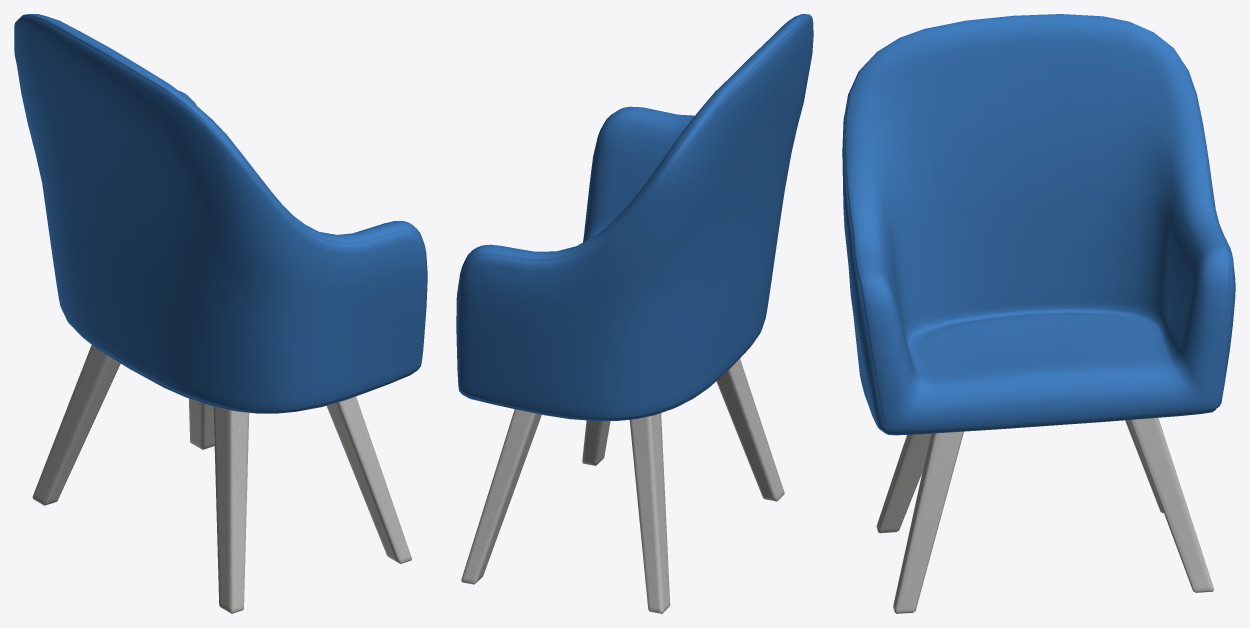
File: example_2.glb
3 views of the same model, side by side, from view 1: azimuth 30°, elevation 25°; view 2: azimuth 150°, elevation 25°; view 3: azimuth 270°, elevation 25° (orthographic). The views are drawn at different scales.
Visible parts, largest first — view 1: seat_mesh_n3d, leg_002_mesh_n3d, leg_001_mesh_n3d, leg_004_mesh_n3d, leg_003_mesh_n3d; view 2: seat_mesh_n3d, leg_001_mesh_n3d, leg_003_mesh_n3d, leg_002_mesh_n3d, leg_004_mesh_n3d; view 3: seat_mesh_n3d, leg_004_mesh_n3d, leg_003_mesh_n3d, leg_002_mesh_n3d.
Boxes of the visible parts, left/top/right/bottom form: seat_mesh_n3d: left=14, top=14, right=427, bottom=413; leg_002_mesh_n3d: left=213, top=406, right=249, bottom=613; leg_001_mesh_n3d: left=32, top=345, right=120, bottom=505; leg_004_mesh_n3d: left=326, top=396, right=411, bottom=563; leg_003_mesh_n3d: left=189, top=398, right=214, bottom=449; seat_mesh_n3d: left=456, top=14, right=813, bottom=420; leg_001_mesh_n3d: left=629, top=413, right=670, bottom=613; leg_003_mesh_n3d: left=461, top=409, right=541, bottom=584; leg_002_mesh_n3d: left=716, top=359, right=784, bottom=501; leg_004_mesh_n3d: left=582, top=420, right=610, bottom=465; seat_mesh_n3d: left=842, top=14, right=1235, bottom=435; leg_004_mesh_n3d: left=893, top=431, right=963, bottom=613; leg_003_mesh_n3d: left=1129, top=417, right=1213, bottom=592; leg_002_mesh_n3d: left=876, top=433, right=930, bottom=533.
Size of the model in its own units: 0.8456 by 1.63 by 1.19.
Materials: 2 (1 with a texture image).
